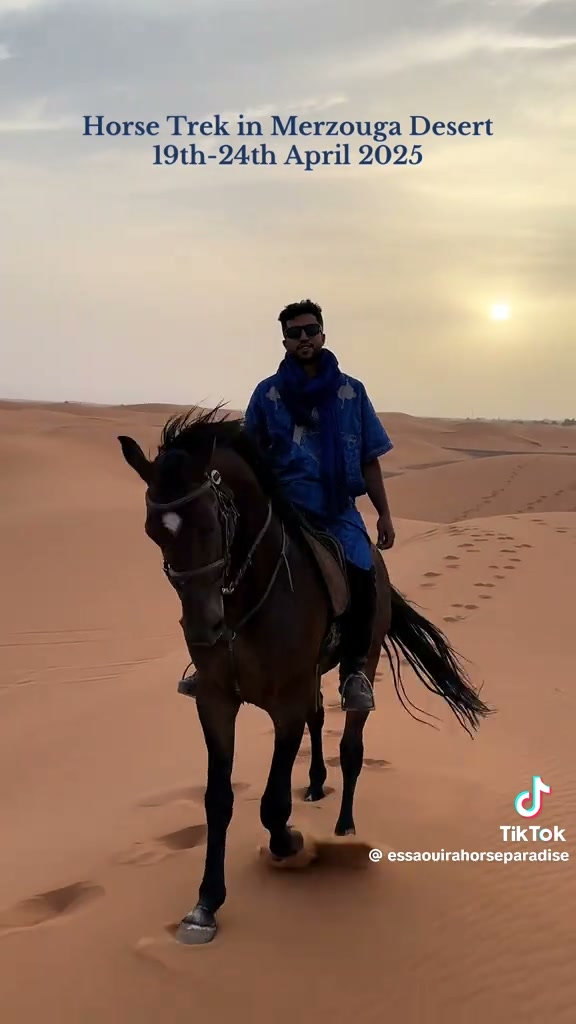animal_foot_print: (0, 882, 103, 932), (114, 823, 206, 865), (138, 786, 205, 807), (158, 823, 206, 850), (189, 785, 205, 805), (363, 757, 390, 767), (296, 744, 310, 761), (443, 615, 462, 622), (474, 582, 494, 588), (423, 571, 440, 578), (457, 542, 474, 548), (419, 582, 435, 588), (446, 562, 459, 569), (464, 603, 478, 609), (500, 548, 515, 553), (518, 543, 532, 548), (444, 556, 458, 561), (503, 564, 516, 569), (451, 603, 464, 608), (554, 528, 567, 533), (467, 547, 479, 552), (509, 557, 521, 562), (494, 574, 505, 579), (489, 564, 499, 569), (506, 515, 518, 519), (479, 595, 491, 599)
